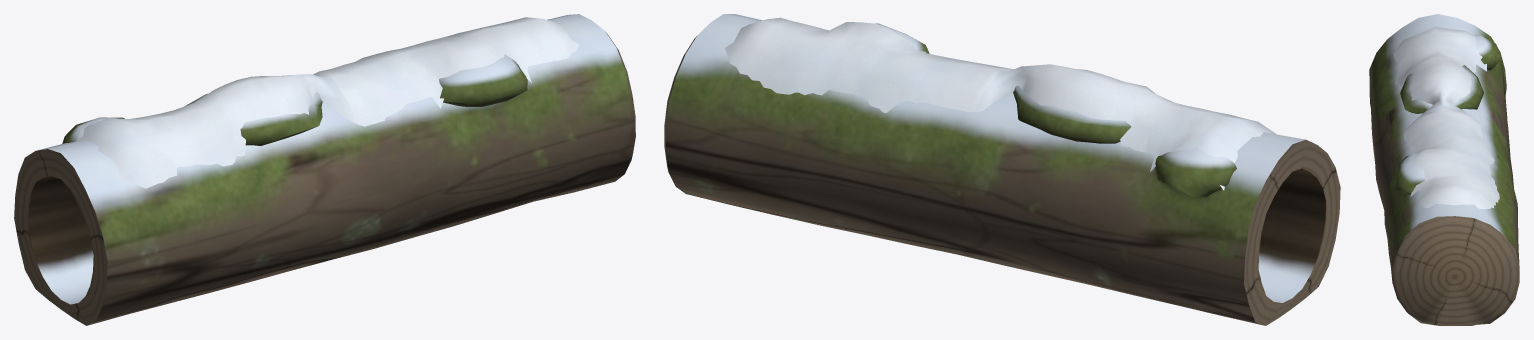
Rendered from fm_log_mossy_fallen_b_snow.glb.
3 views of the same model, side by side, from view 1: azimuth 30°, elevation 25°; view 2: azimuth 150°, elevation 25°; view 3: azimuth 270°, elevation 25° (orthographic). The views are drawn at different scales.
Parts seen in each view (by area): view 1: fm_log_mossy_fallen_b_snow; view 2: fm_log_mossy_fallen_b_snow; view 3: fm_log_mossy_fallen_b_snow.
Boxes of the visible parts, x1,y1,x2,y2 form: fm_log_mossy_fallen_b_snow: [14, 14, 635, 325]; fm_log_mossy_fallen_b_snow: [664, 14, 1340, 325]; fm_log_mossy_fallen_b_snow: [1369, 14, 1519, 325].
Bounding box in the file's own units: 1.62 × 0.5045 × 0.5177.
Materials: 2 (2 with a texture image).
